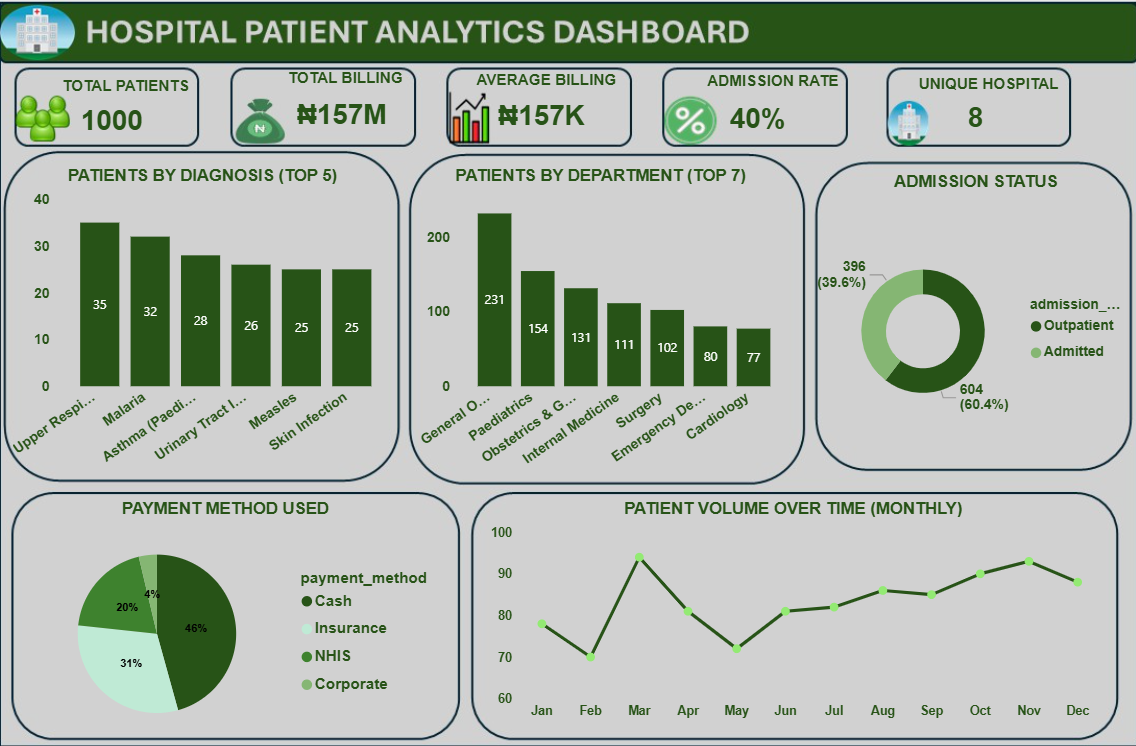

Layout of this report page (visuals, bound fields, positions):
{"tool":"powerbi","page":{"name":"Page 1","canvas":[1280,720],"ordinal":0},"visuals":[{"type":"clusteredColumnChart","title":"PATIENTS BY DIAGNOSIS (TOP 5)","fields":{"Category":["Hospital_Patients.patient_diagnosis"],"Y":["Measures (2).Total Patients"]},"box":[18.2,159,374,298.3],"z":0},{"type":"card","title":"TOTAL PATIENTS","fields":{"Values":["Measures (2).Total Patients"]},"box":[39.4,74.2,159,65.1],"z":1000},{"type":"card","title":"TOTAL BILLING","fields":{"Values":["Measures (2).Total Billing"]},"box":[274.7,67.6,128,67.6],"z":2000},{"type":"card","title":"AVERAGE BILLING","fields":{"Values":["Measures (2).Average Billing"]},"box":[452.7,69.7,154.4,66.6],"z":3000},{"type":"card","title":"ADMISSION RATE","fields":{"Values":["Measures (2).Admission Rate %"]},"box":[653.9,69.9,166.3,69.9],"z":4000},{"type":"pieChart","title":"PAYMENT METHOD USED","fields":{"Category":["Hospital_Patients.payment_method"],"Y":["Measures (2).Total Patients"]},"box":[18.2,478.5,417.9,240.8],"z":6000},{"type":"card","title":"UNIQUE HOSPITAL","fields":{"Values":["Measures (2).Unique Hospitals"]},"box":[861.7,73.7,170.1,62.4],"z":7000},{"type":"clusteredColumnChart","title":"PATIENTS BY DEPARTMENT (TOP 7)","fields":{"Y":["Measures (2).Total Patients"],"Category":["Hospital_Patients.hospital_department"]},"box":[402.8,159,369.5,298.3],"z":8000},{"type":"lineChart","title":"PATIENT VOLUME OVER TIME (MONTHLY)","fields":{"Y":["Measures (2).Total Patients"],"Category":["Hospital_Patients.Month Short"]},"box":[475.5,478.5,592.1,219.6],"z":11000},{"type":"donutChart","title":"ADMISSION STATUS","fields":{"Category":["Hospital_Patients.admission_status"],"Y":["Measures (2).Total Patients"]},"box":[787.4,165,318,287.7],"z":12000}]}

Visuals, with their boxes on the page's 1280x720 design canvas (x1, y1, x2, y2). These are canvas units, not pixel positions in the 1136x746 screenshot, which may show the page scaled, cropped or inside an application window:
"PATIENTS BY DIAGNOSIS (TOP 5)" clusteredColumnChart: left=18, top=159, right=392, bottom=457
"TOTAL PATIENTS" card: left=39, top=74, right=198, bottom=139
"TOTAL BILLING" card: left=275, top=68, right=403, bottom=135
"AVERAGE BILLING" card: left=453, top=70, right=607, bottom=136
"ADMISSION RATE" card: left=654, top=70, right=820, bottom=140
"PAYMENT METHOD USED" pieChart: left=18, top=478, right=436, bottom=719
"UNIQUE HOSPITAL" card: left=862, top=74, right=1032, bottom=136
"PATIENTS BY DEPARTMENT (TOP 7)" clusteredColumnChart: left=403, top=159, right=772, bottom=457
"PATIENT VOLUME OVER TIME (MONTHLY)" lineChart: left=476, top=478, right=1068, bottom=698
"ADMISSION STATUS" donutChart: left=787, top=165, right=1105, bottom=453
